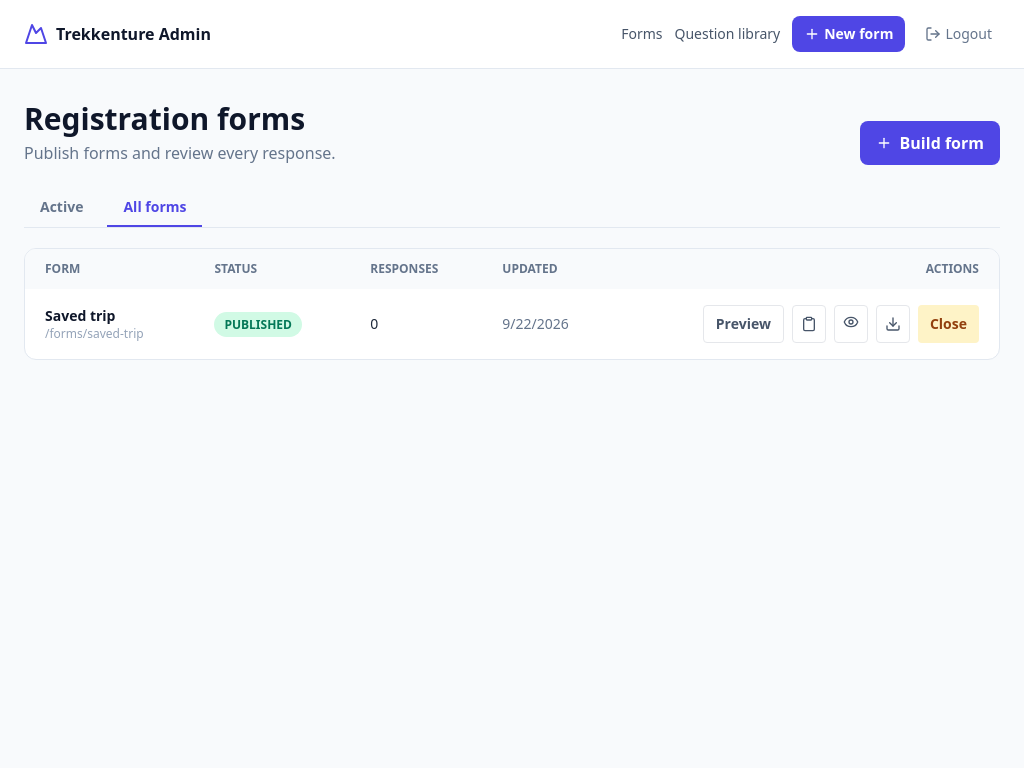
Test: application integration › previews saved PUBLISHED snapshots from the dashboard without enabling submissions
Click the link "Preview" at {"x": 743, "y": 324}, box [703,305,784,343]
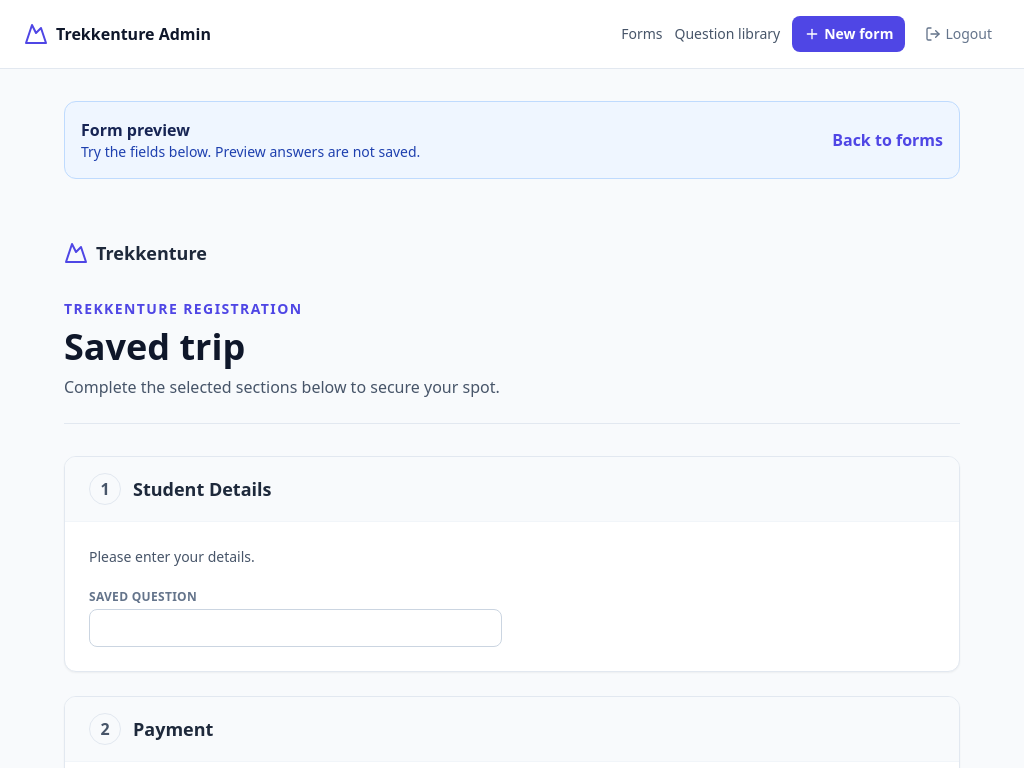
Type "Preview answer" into the field labelled "Saved question" at {"x": 296, "y": 628}, box [89,609,502,647]
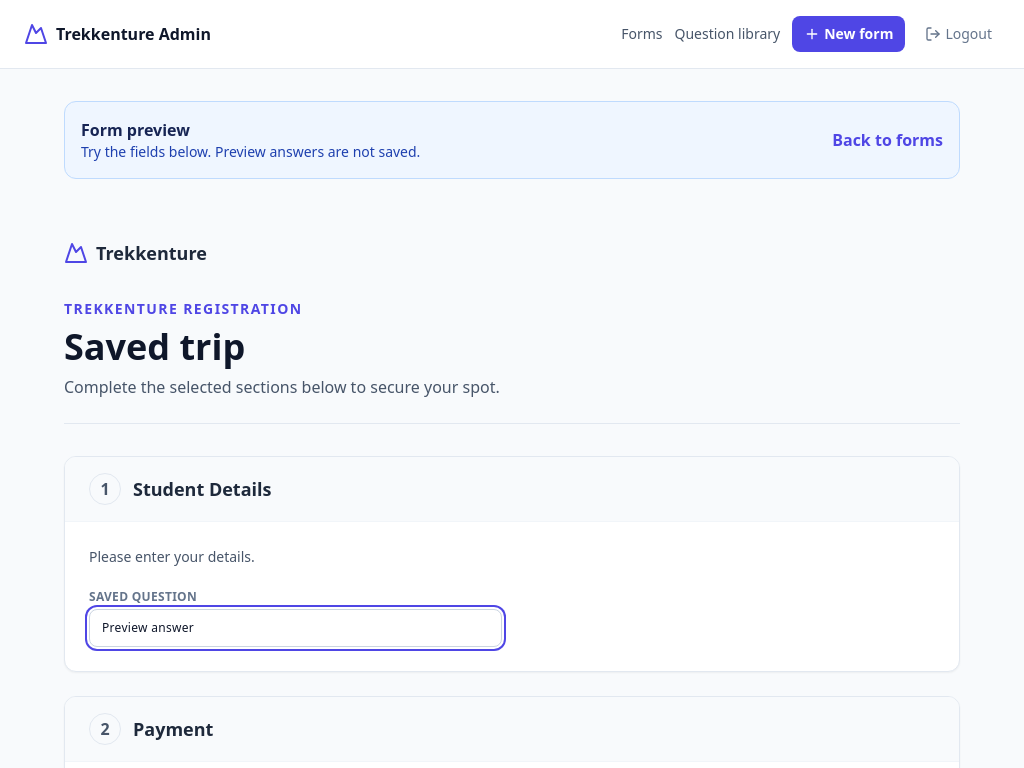
Click the link "Back to forms" at {"x": 888, "y": 140}, box [832,128,943,152]
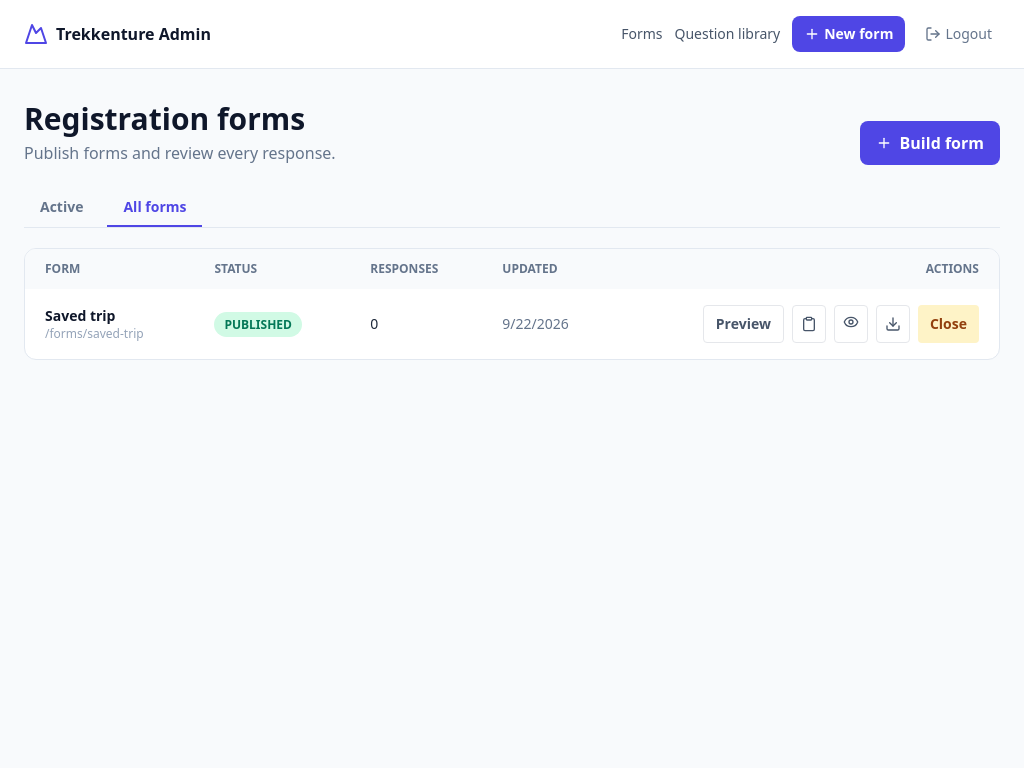
Check: the text "PUBLISHED" is shown, box [214,312,302,337]
